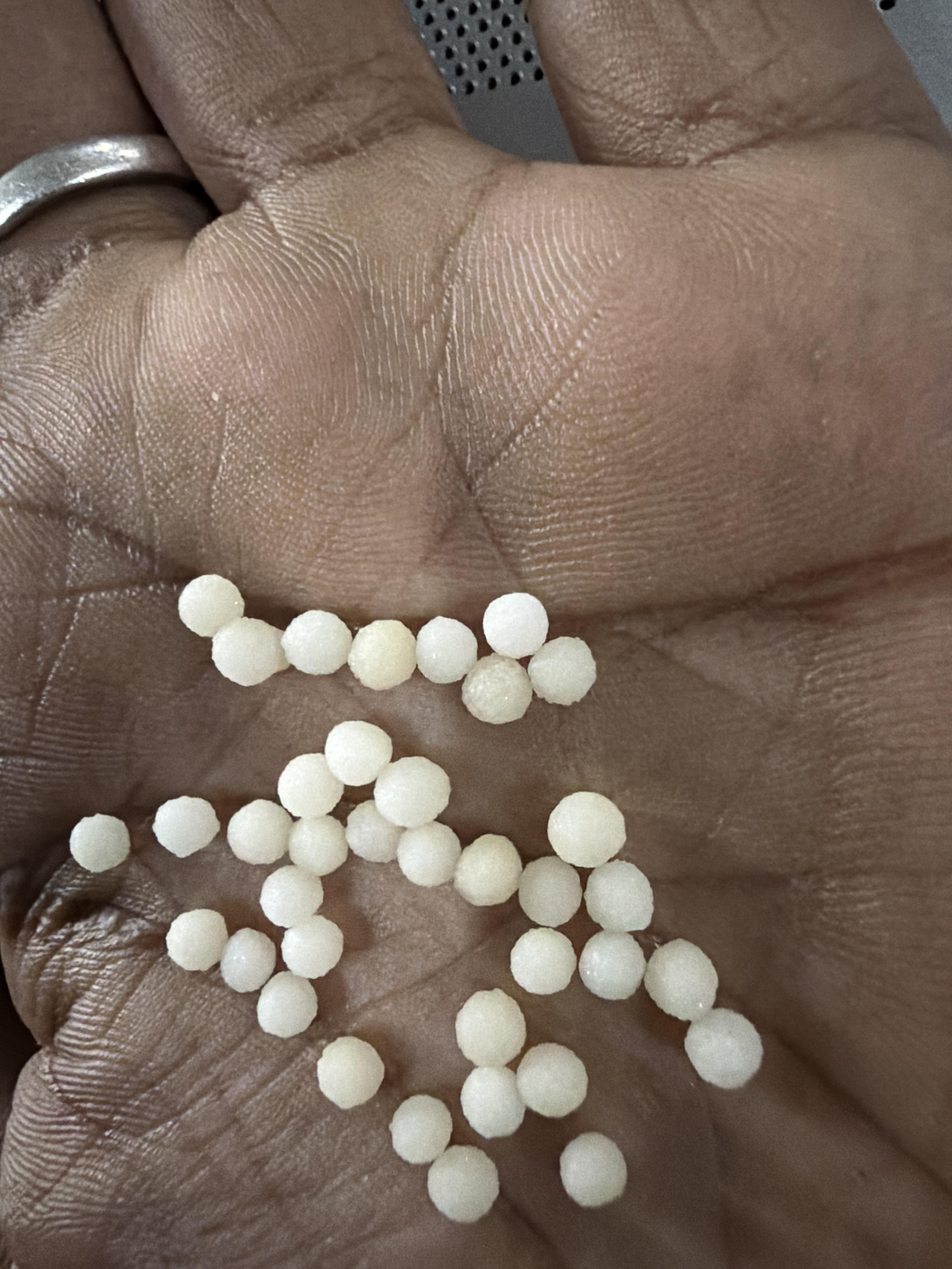pill: (684, 1008, 762, 1089), (547, 791, 626, 868), (644, 939, 718, 1021), (427, 1146, 499, 1223), (455, 989, 526, 1066), (516, 1043, 588, 1118), (374, 757, 450, 828), (212, 617, 288, 686), (560, 1132, 627, 1208), (462, 653, 532, 724), (585, 860, 653, 932), (454, 834, 522, 906), (317, 1036, 384, 1109), (348, 619, 416, 690), (527, 636, 596, 705), (579, 930, 645, 1000), (461, 1067, 525, 1138), (518, 856, 582, 927), (281, 610, 352, 674), (325, 720, 393, 786), (510, 927, 576, 994), (389, 1094, 452, 1164), (483, 592, 548, 658), (226, 799, 292, 864), (397, 821, 461, 887), (277, 753, 343, 817), (178, 574, 244, 637), (153, 796, 220, 858), (416, 617, 477, 684), (257, 971, 318, 1038), (260, 864, 323, 928), (281, 915, 343, 979), (166, 909, 228, 971), (219, 928, 276, 992), (288, 816, 348, 876), (69, 814, 130, 873), (346, 801, 402, 863)
